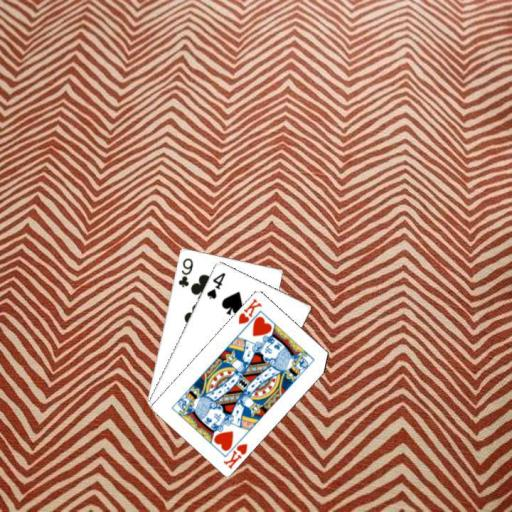4S: (203, 270, 227, 300)
9C: (175, 255, 194, 289)
KH: (220, 440, 249, 470), (235, 295, 263, 326)
